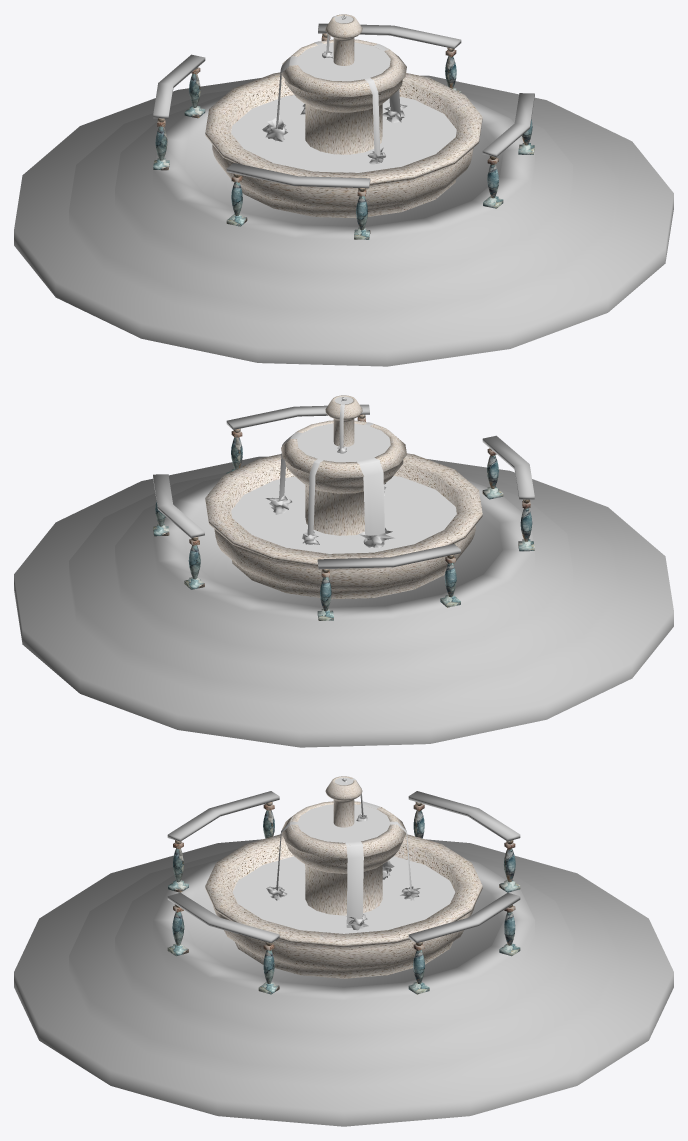
File: Fountain_ForestProp_003.fbx
The picture shows the model from 3 angles, top to bottom: view 1: azimuth 30°, elevation 25°; view 2: azimuth 150°, elevation 25°; view 3: azimuth 270°, elevation 25°; orthographic projection.
Visible parts, largest first — view 1: ladder, fountain, Spray.001, Spray.002, Handrail.002, Handrail.001, Handrail.003, Handrail, Pillar.006, Pillar.008, Pillar.003, Pillar.005 (+2 smaller); view 2: ladder, fountain, Spray.001, Spray.002, WaterFlow.003, Handrail.001, Handrail.002, Handrail, Handrail.003, Pillar.002, Pillar.003, Pillar.006 (+2 smaller); view 3: ladder, fountain, Spray.001, Spray.002, Handrail.003, Handrail, Handrail.002, Handrail.001, WaterFlow.002, Pillar.004, Pillar.001, Pillar.007 (+3 smaller).
Part boxes in pixels (x1,y1,x2,y2): ladder: (14, 75, 673, 366); fountain: (205, 14, 482, 218); Spray.001: (231, 95, 456, 172); Spray.002: (297, 42, 393, 84); Handrail.002: (226, 163, 370, 188); Handrail.001: (153, 54, 205, 118); Handrail.003: (482, 93, 534, 156); Handrail: (318, 23, 461, 48); Pillar.006: (226, 173, 247, 226); Pillar.008: (483, 156, 503, 208); Pillar.003: (153, 118, 169, 170); Pillar.005: (354, 188, 370, 239); ladder: (14, 456, 673, 747); fountain: (205, 395, 482, 599); Spray.001: (231, 476, 456, 553); Spray.002: (297, 420, 397, 462); WaterFlow.003: (357, 457, 384, 546); Handrail.001: (317, 544, 460, 569); Handrail.002: (482, 435, 534, 499); Handrail: (153, 474, 204, 538); Handrail.003: (226, 404, 369, 429); Pillar.002: (184, 537, 204, 589); Pillar.003: (440, 554, 460, 607); Pillar.006: (518, 499, 534, 551); ladder: (14, 839, 673, 1126); fountain: (205, 776, 482, 978); Spray.001: (232, 856, 455, 933); Spray.002: (290, 804, 390, 842); Handrail.003: (167, 892, 279, 943); Handrail: (408, 892, 520, 943); Handrail.002: (167, 791, 279, 841); Handrail.001: (408, 791, 520, 841); WaterFlow.002: (345, 841, 363, 927); Pillar.004: (499, 840, 520, 892); Pillar.001: (408, 942, 429, 994); Pillar.007: (258, 942, 279, 994).
Size of the model in its own units: 201 by 201 by 70.28.
